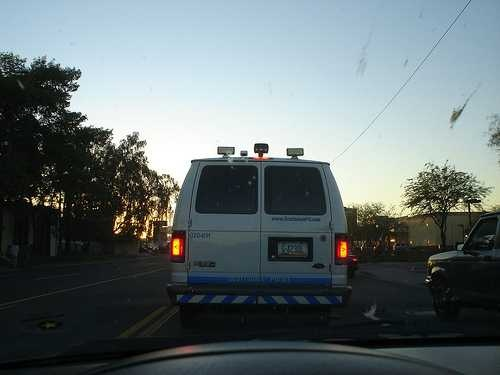Police Van: (145, 132, 375, 320)
